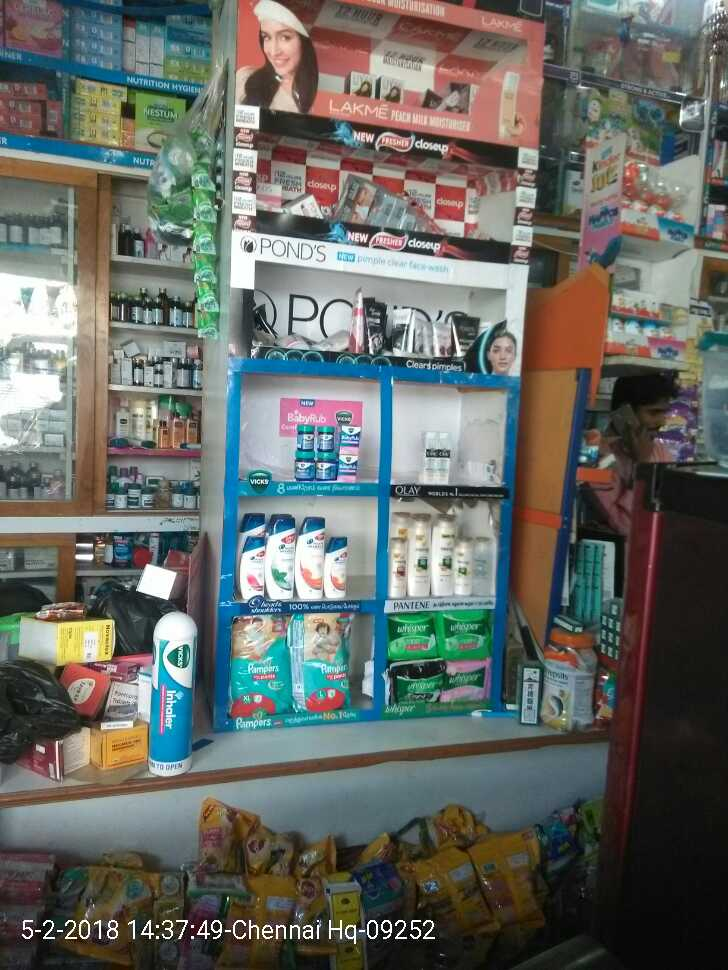vicks: (141, 610, 203, 778), (292, 423, 364, 485)
